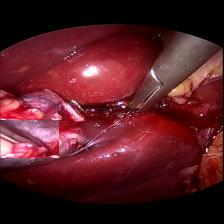Grasper: (124, 62, 178, 114), (0, 118, 59, 156)
